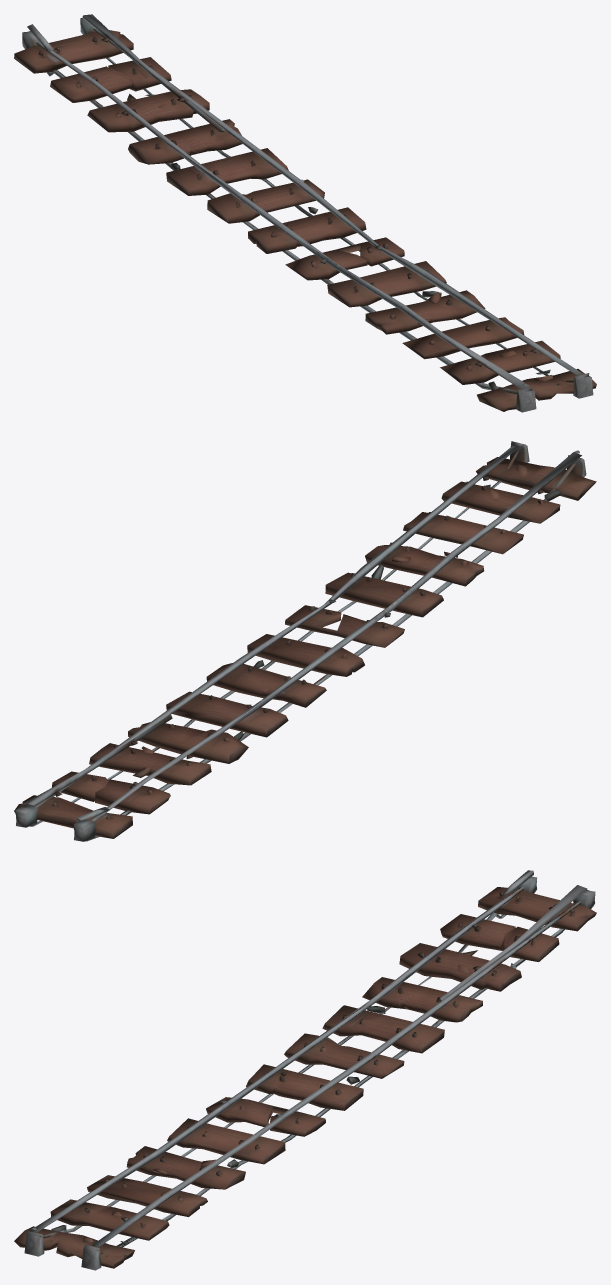
Rendered from mine_track.glb.
3 renders of one model, top to bottom at view 1: azimuth 30°, elevation 25°; view 2: azimuth 150°, elevation 25°; view 3: azimuth 330°, elevation 25°, orthographic.
Visible parts, largest first — view 1: mine_track_LOD0; view 2: mine_track_LOD0; view 3: mine_track_LOD0.
Boxes of the visible parts, <box> form: mine_track_LOD0: <box>14,14,596,412</box>; mine_track_LOD0: <box>14,441,596,841</box>; mine_track_LOD0: <box>14,870,596,1270</box>.
Size of what is drawn, in the model's own units: 0.3552 by 0.1446 by 3.
1 material, 1 textured.
